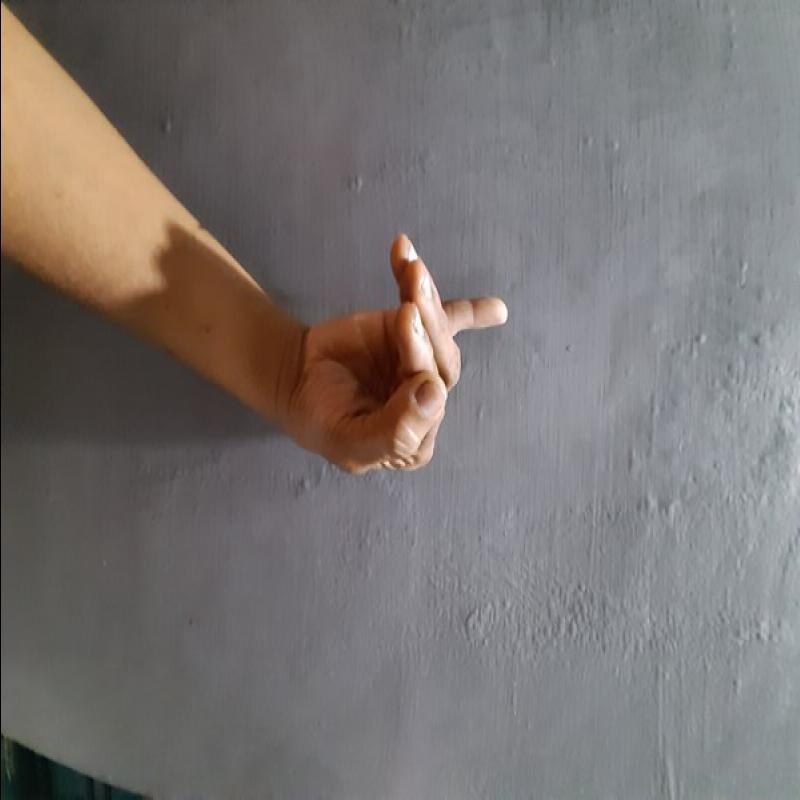Kartharee Mukham: (278, 234, 516, 492)
